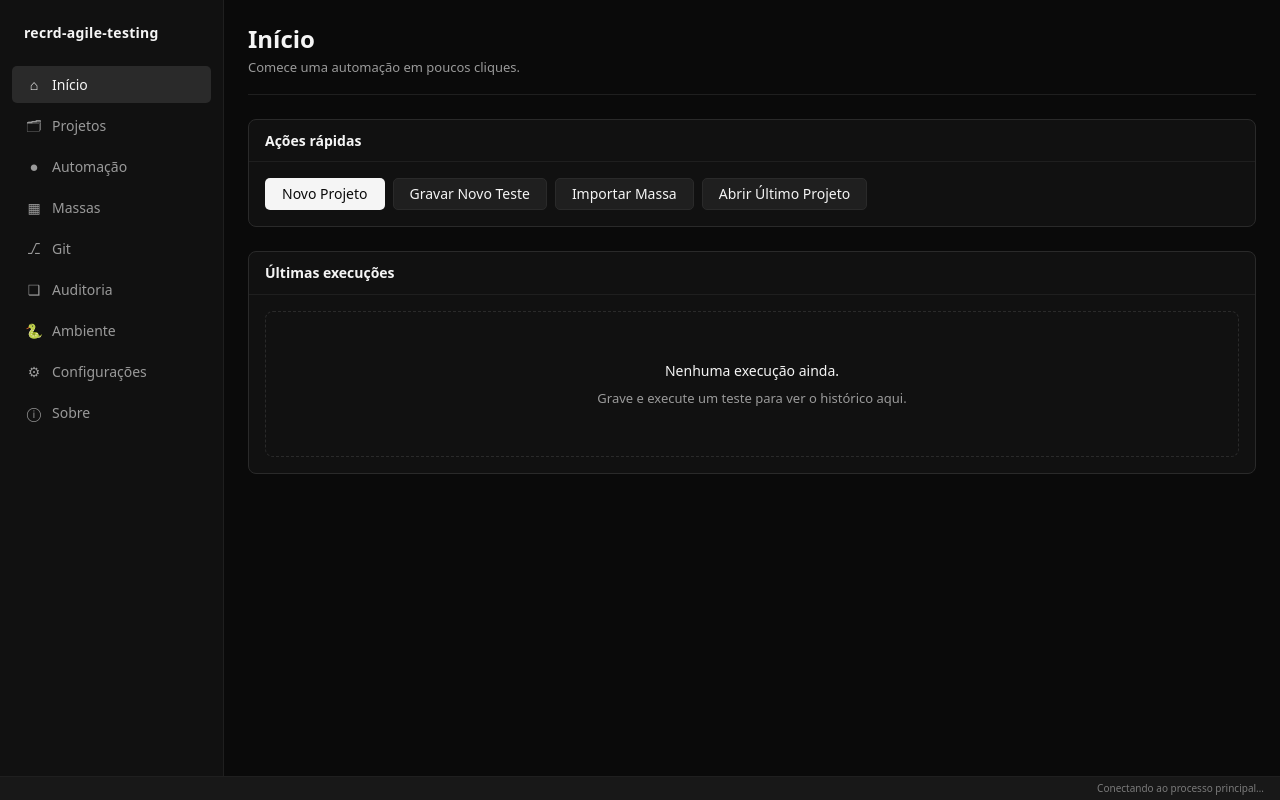
Test: App › exposes a primary navigation sidebar that routes between views
Expected: the navigation bar named "navegação principal" is shown, [12,66,211,430]
Click the button "⏺ Automação". click: (112,166)
box: [12,148,211,184]
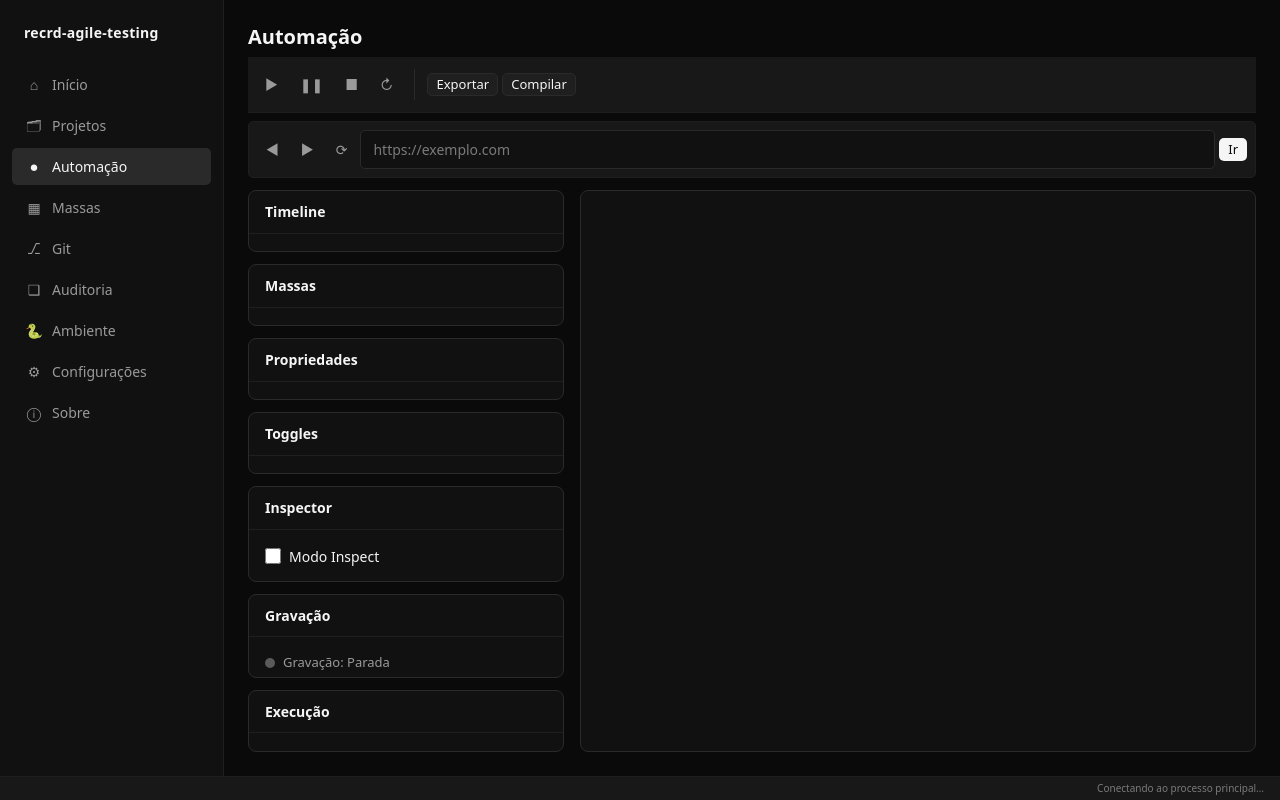
Expected: the heading "Automação" is shown, [248,23,362,50]
Result: the button "⏺ Automação" is marked as current at [12,148,211,184]
Click the button "▦ Massas". click: (112,207)
box: [12,188,211,226]
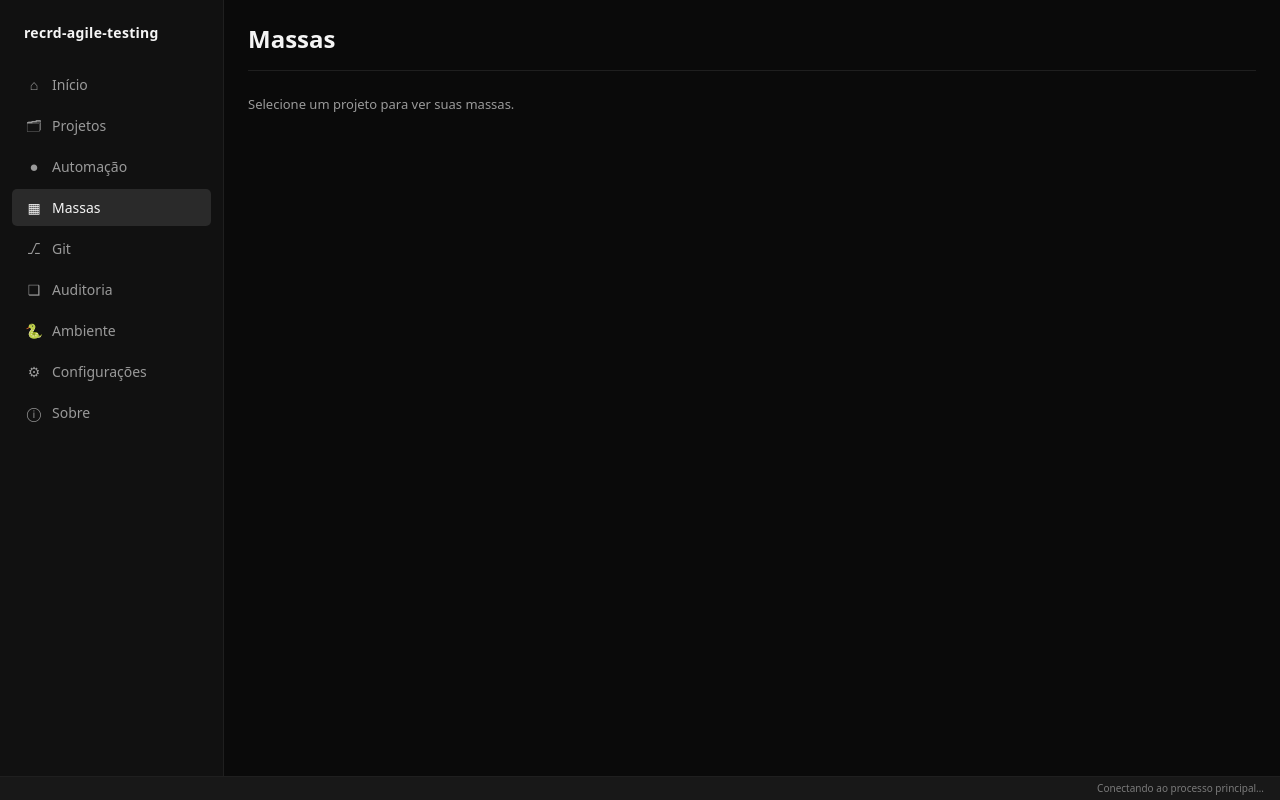
Result: the heading "Massas" is shown at [248,24,335,54]
